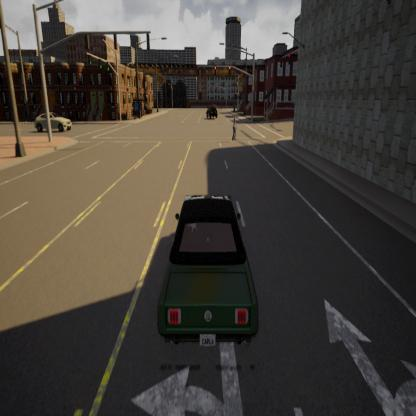Cars: (156, 191, 262, 348), (33, 111, 73, 133), (207, 102, 218, 122)
Pedestrian: (231, 108, 237, 146)
